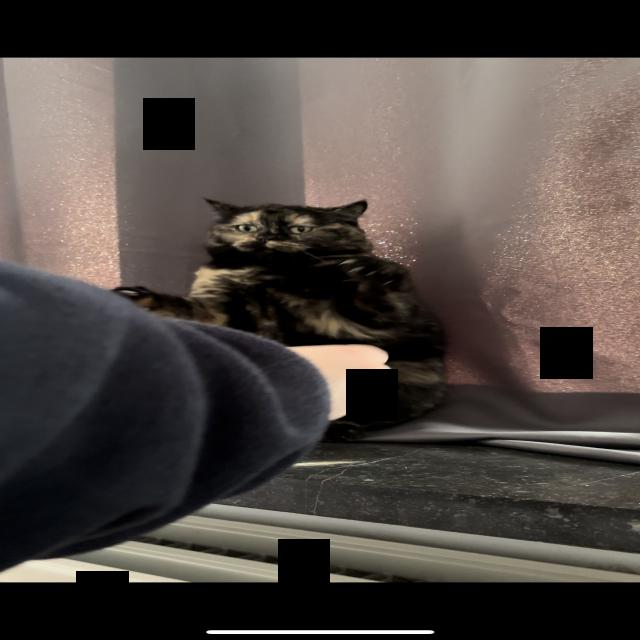authorized: (112, 196, 450, 442)
